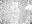person: (26, 4, 31, 11)
